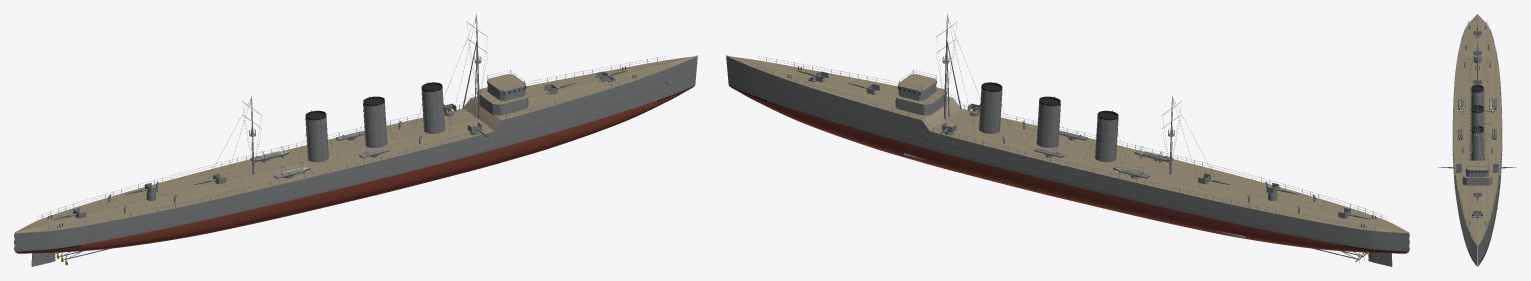
File: kuma.glb
The picture shows the model from 3 angles, left to right: view 1: azimuth 30°, elevation 25°; view 2: azimuth 150°, elevation 25°; view 3: azimuth 270°, elevation 25°; orthographic projection. The views are drawn at different scales.
Visible parts, largest first — view 1: Kuma class; view 2: Kuma class; view 3: Kuma class.
Boxes of the visible parts, <box> form: Kuma class: <box>14,14,697,266</box>; Kuma class: <box>726,14,1409,266</box>; Kuma class: <box>1438,14,1516,266</box>.
Size of the model in its own units: 162 by 33.1 by 22.56.
8 materials, 2 textured.
